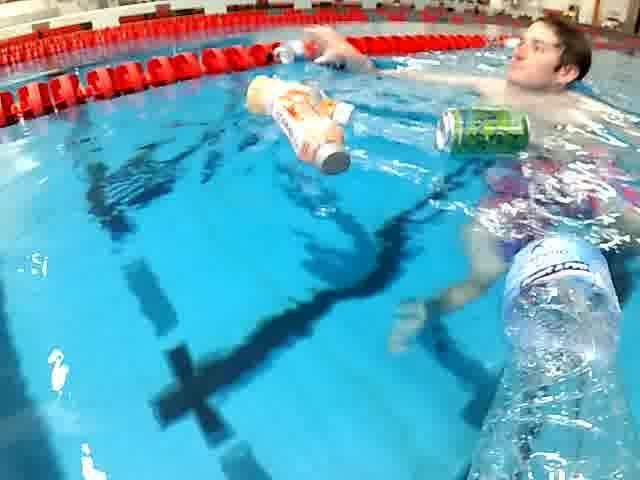Bottle: (484, 221, 640, 480), (266, 88, 354, 178), (241, 71, 359, 131)
Can: (421, 105, 538, 161)
